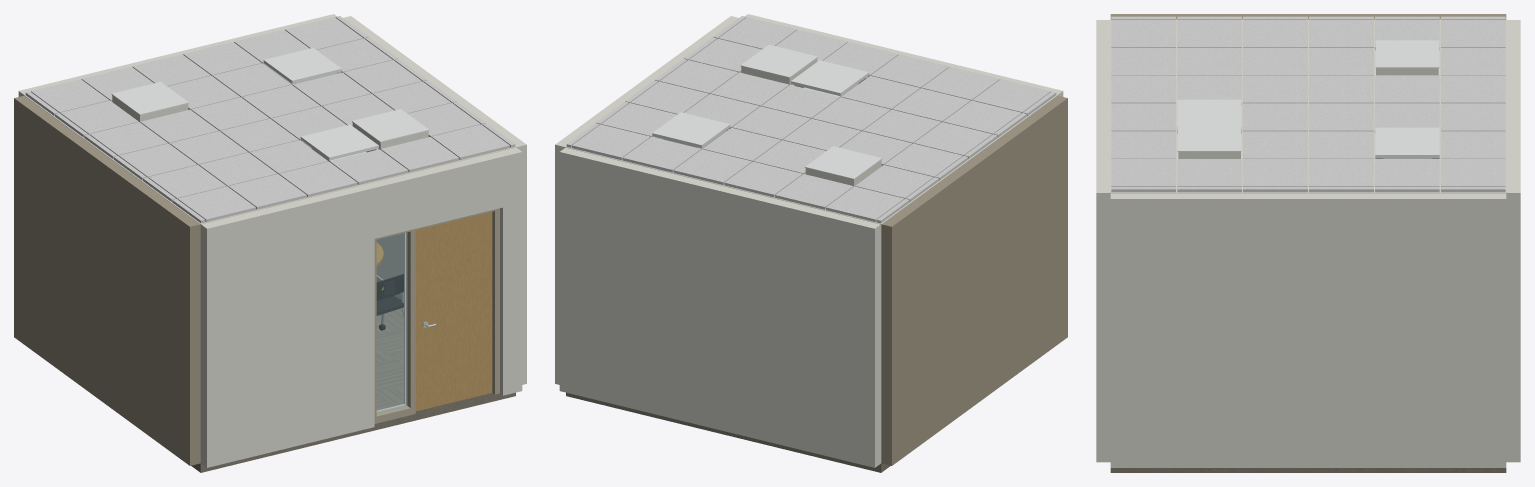
File: office.glb
3 views of the same model, side by side, from view 1: azimuth 30°, elevation 25°; view 2: azimuth 150°, elevation 25°; view 3: azimuth 270°, elevation 25° (orthographic). The views are drawn at different scales.
Visible parts, largest first — view 1: Wall_Entry, Ceiling_Grid, Wall_Accent, Door_Hinge, Floor, Wall_Right, Wall_Rear, Guest_Chair_Meeting_Front; view 2: Wall_Rear, Ceiling_Grid, Wall_Accent, Wall_Right, Floor, Wall_Entry; view 3: Wall_Right, Ceiling_Grid, Wall_Rear, Wall_Entry, Floor, Wall_Accent.
Part boxes in pixels (x1,y1,x2,y2): Wall_Entry: [200, 147, 522, 467]; Ceiling_Grid: [24, 16, 516, 224]; Wall_Accent: [14, 95, 200, 465]; Door_Hinge: [415, 211, 492, 411]; Floor: [191, 308, 515, 472]; Wall_Right: [343, 16, 526, 384]; Wall_Rear: [18, 14, 337, 148]; Guest_Chair_Meeting_Front: [376, 274, 403, 330]; Wall_Rear: [559, 147, 881, 467]; Ceiling_Grid: [565, 16, 1057, 224]; Wall_Accent: [881, 95, 1067, 465]; Wall_Right: [555, 16, 738, 384]; Floor: [566, 392, 890, 472]; Wall_Entry: [745, 14, 1063, 96]; Wall_Right: [1110, 193, 1506, 467]; Ceiling_Grid: [1109, 16, 1507, 193]; Wall_Rear: [1506, 20, 1520, 462]; Wall_Entry: [1096, 20, 1110, 462]; Floor: [1110, 468, 1506, 472]; Wall_Accent: [1110, 14, 1506, 158].
Bounding box in the file's own units: 4.04 × 2.96 × 3.92.
Materials: 22 (5 with a texture image).
